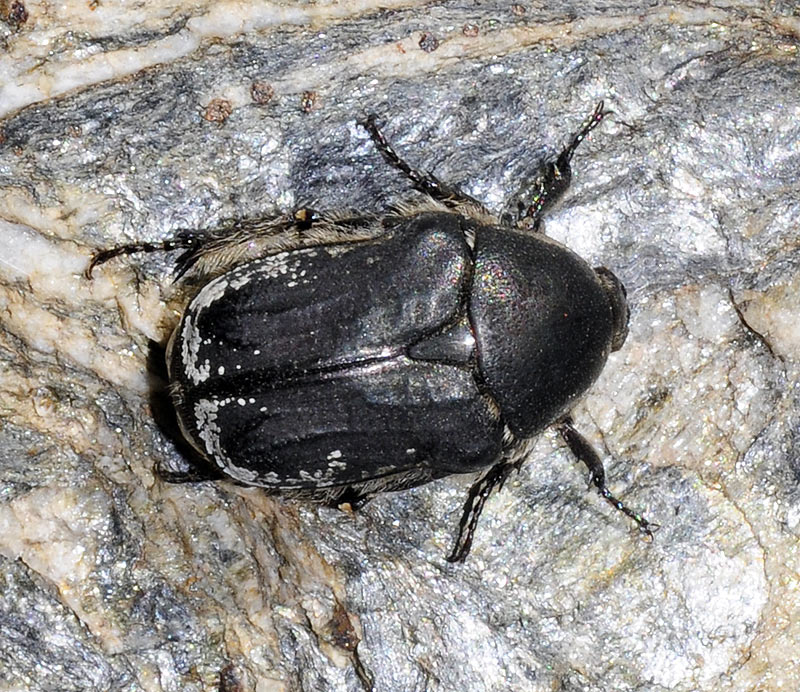Protaetia_oblonga: (86, 84, 672, 576)
